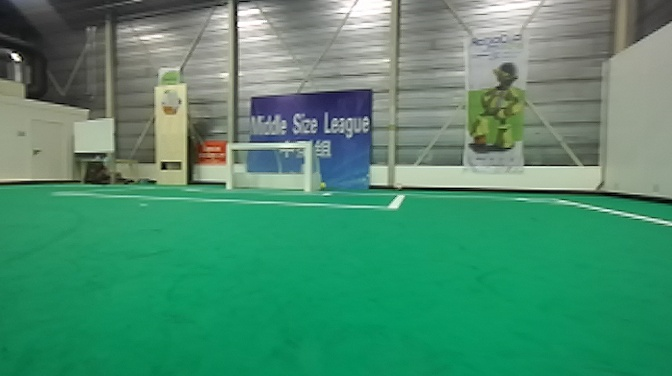ball: (311, 177, 333, 191), (394, 180, 411, 194)
goalpost: (298, 138, 314, 196), (223, 139, 237, 192)
